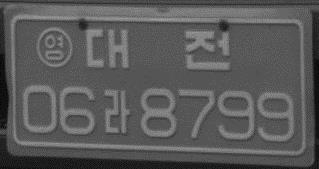0: (21, 83, 58, 134)
6: (58, 85, 95, 136)
7: (176, 86, 216, 140)
8: (139, 86, 178, 139)
9: (255, 90, 295, 142), (217, 88, 255, 141)
대전_D: (84, 25, 231, 73)
라: (102, 86, 131, 134)
영: (36, 26, 72, 67)
